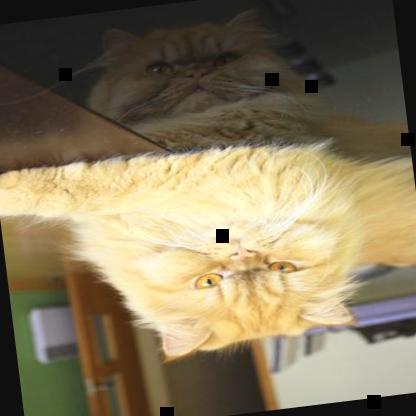cat: (0, 119, 415, 380)
